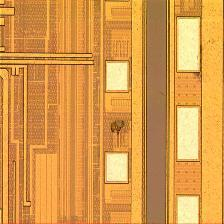PO CONTAMINATION: (106, 113, 134, 141)
